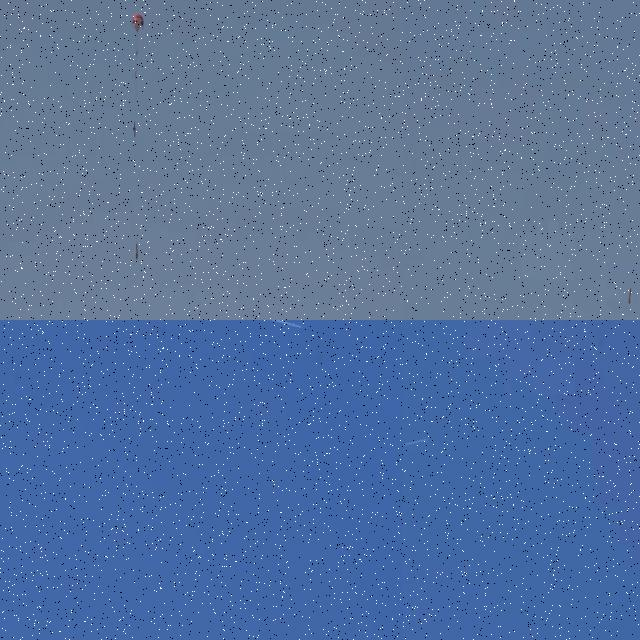Rocket: (292, 322, 302, 329), (628, 288, 632, 305), (136, 243, 138, 260), (424, 439, 426, 441)
